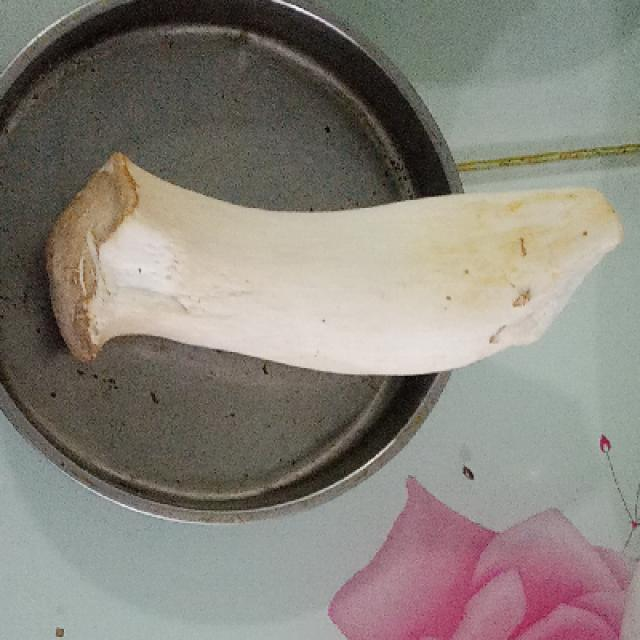Pleurotus eryngii: (50, 147, 621, 378)
